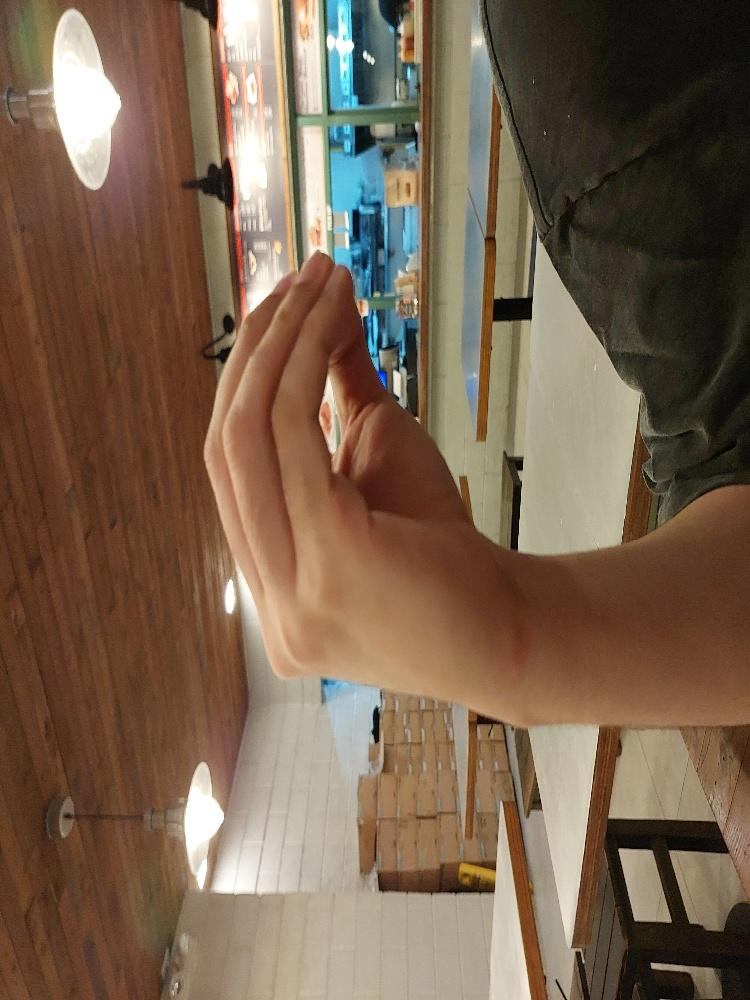o: (215, 268, 563, 698)
